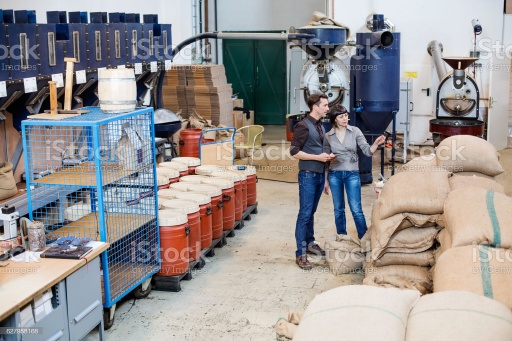person: (321, 104, 386, 241), (291, 92, 335, 271)
